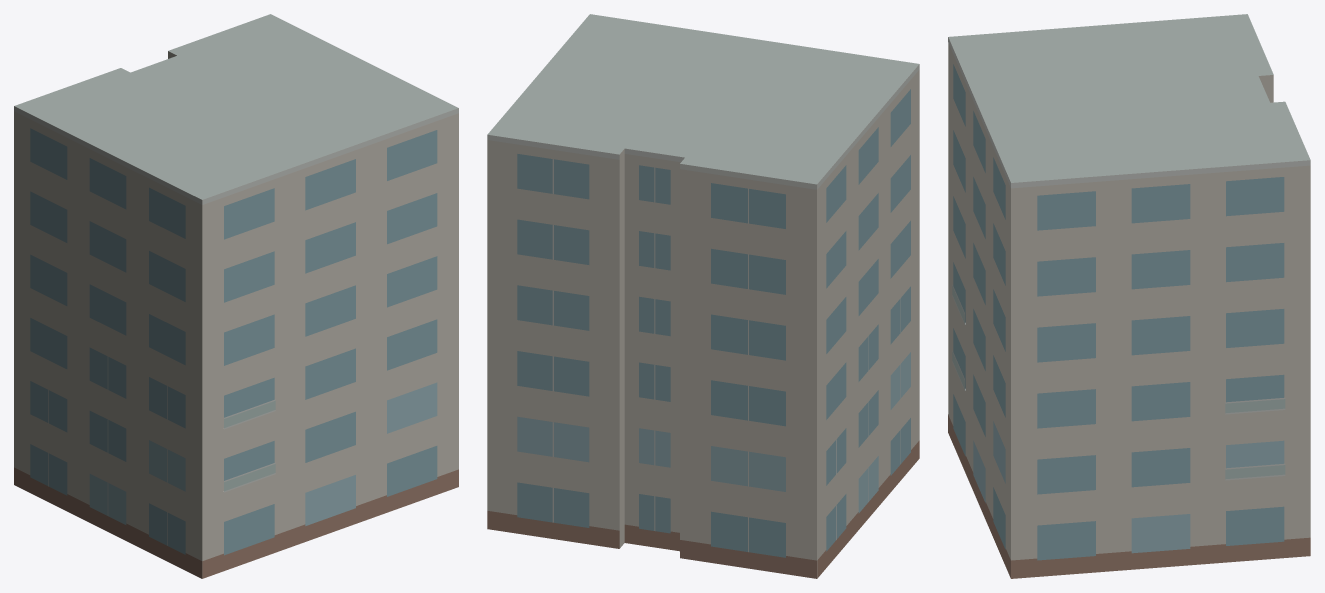
Rendered from survey-upis-32725045.glb.
3 renders of one model, left to right at view 1: azimuth 30°, elevation 25°; view 2: azimuth 150°, elevation 25°; view 3: azimuth 270°, elevation 25°, orthographic. The views are drawn at different scales.
Visible parts, largest first — view 1: survey-upis-32725045.tmp; view 2: survey-upis-32725045.tmp; view 3: survey-upis-32725045.tmp.
Part boxes in pixels (x1,y1,x2,y2): survey-upis-32725045.tmp: (14, 14, 458, 578); survey-upis-32725045.tmp: (487, 14, 919, 578); survey-upis-32725045.tmp: (948, 14, 1310, 578).
Size of the model in its own units: 16.49 by 18 by 14.95.
